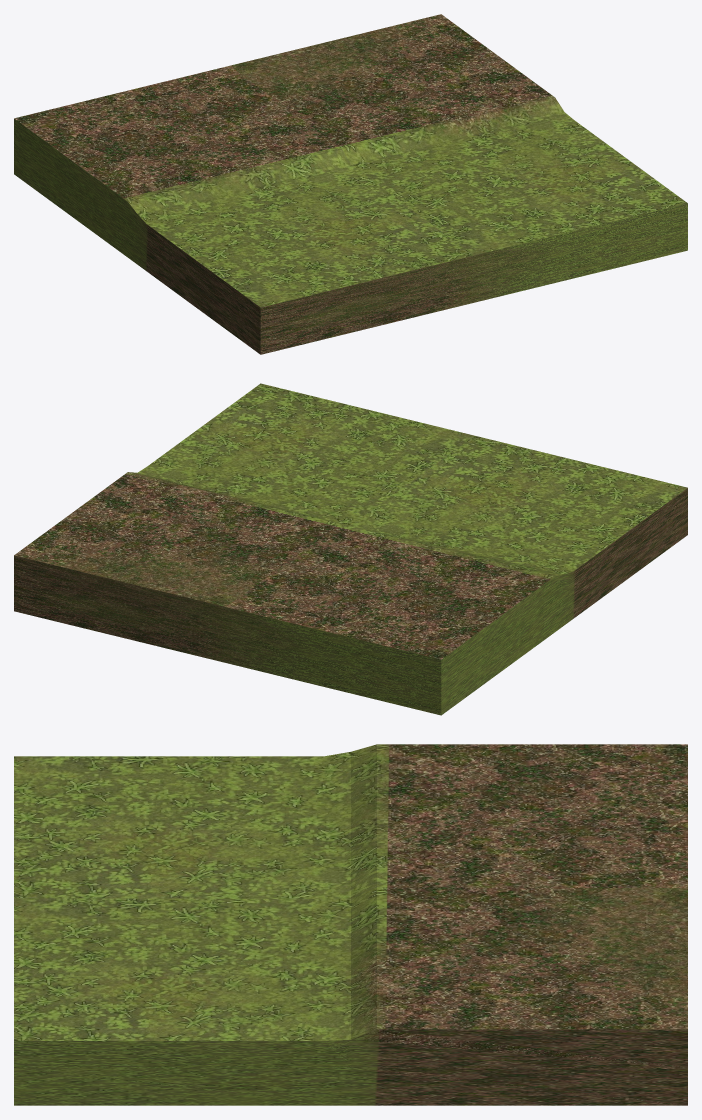
The model's file is ground_dirt_to_grass_01.fbx.
3 views of the same model, one above another, from view 1: azimuth 30°, elevation 25°; view 2: azimuth 150°, elevation 25°; view 3: azimuth 270°, elevation 25° (orthographic). The views are drawn at different scales.
Parts seen in each view (by area): view 1: 4x4 Dirt to Stone Floor.002; view 2: 4x4 Dirt to Stone Floor.002; view 3: 4x4 Dirt to Stone Floor.002.
Boxes of the visible parts, left/top/right/bottom form: 4x4 Dirt to Stone Floor.002: left=14, top=14, right=687, bottom=354; 4x4 Dirt to Stone Floor.002: left=14, top=383, right=687, bottom=715; 4x4 Dirt to Stone Floor.002: left=14, top=744, right=687, bottom=1105.
Bounding box in the file's own units: 400 × 50 × 400.
Materials: 1 (1 with a texture image).
